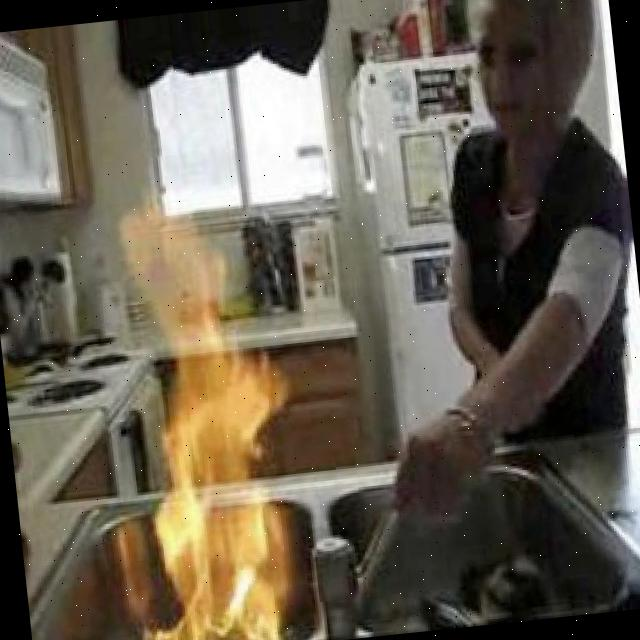fire: (115, 192, 310, 640)
